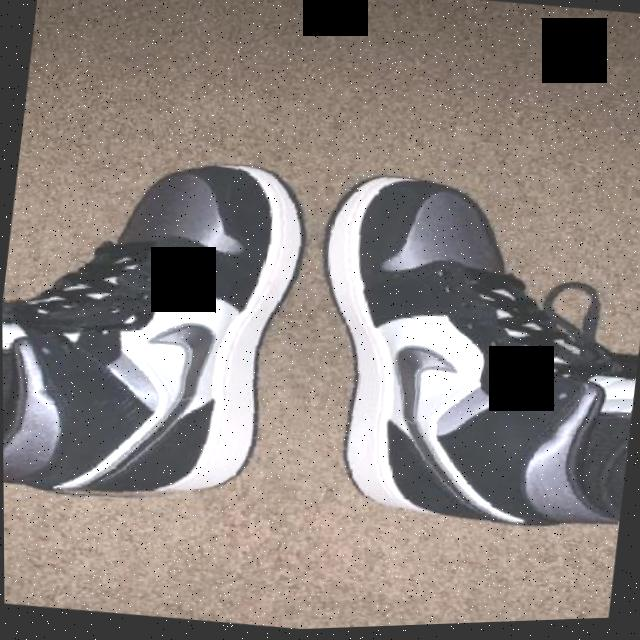shoe: (277, 156, 640, 550), (1, 137, 329, 525)
